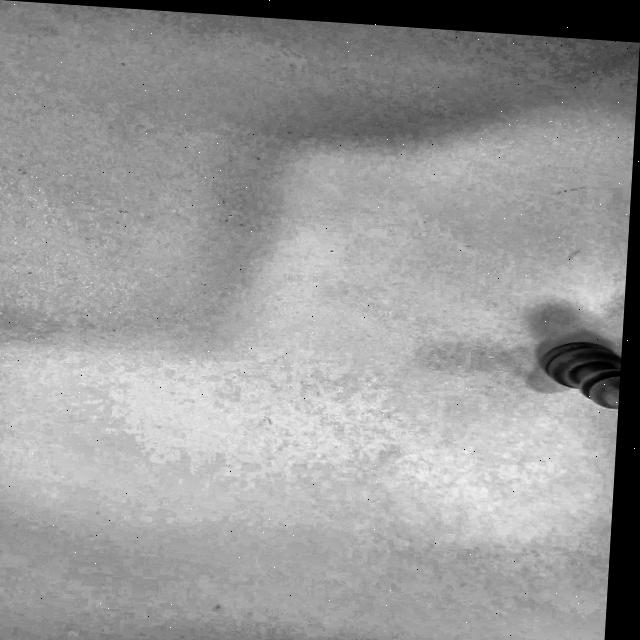white-pawn: (506, 322, 623, 429)
